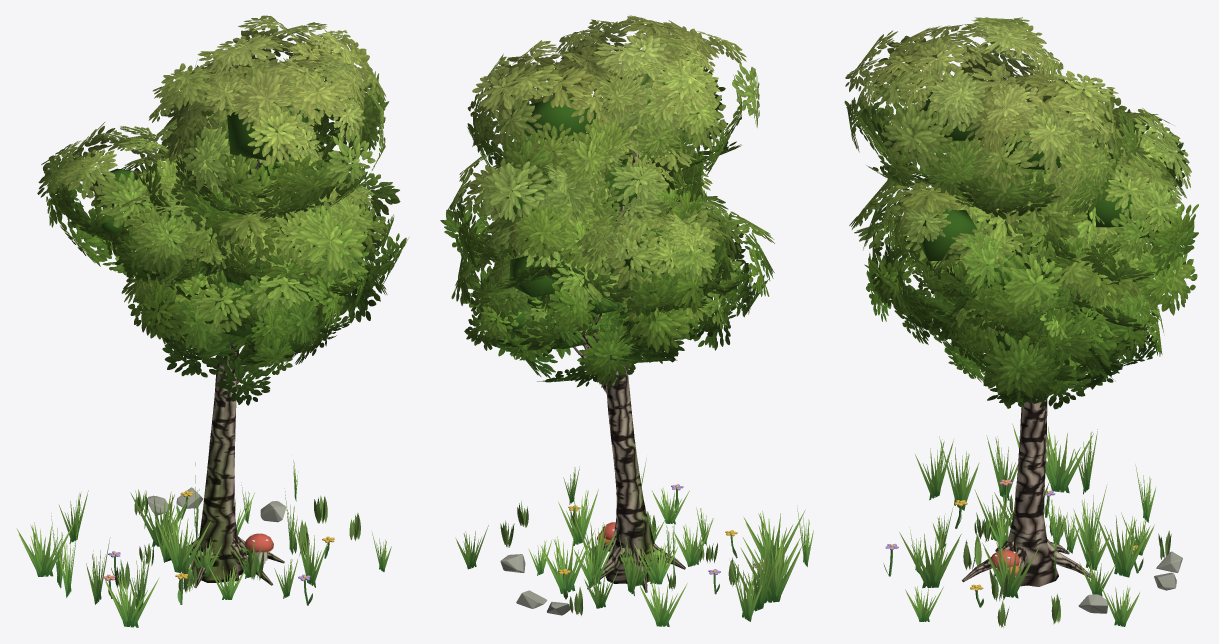
The model's file is tree_birch.gltf.
3 renders of one model, left to right at view 1: azimuth 30°, elevation 25°; view 2: azimuth 150°, elevation 25°; view 3: azimuth 270°, elevation 25°, orthographic. The views are drawn at different scales.
Parts seen in each view (by area): view 1: Canopy_summer, Undergrowth, Trunk, Base; view 2: Canopy_summer, Undergrowth, Trunk, Base; view 3: Canopy_summer, Undergrowth, Trunk, Base.
Part boxes in pixels (<box>): Canopy_summer: <box>37,15,408,405</box>; Undergrowth: <box>16,460,391,627</box>; Trunk: <box>166,159,284,588</box>; Base: <box>102,254,360,605</box>; Canopy_summer: <box>440,15,774,389</box>; Undergrowth: <box>455,457,813,626</box>; Trunk: <box>545,148,685,592</box>; Base: <box>500,404,765,615</box>; Canopy_summer: <box>844,17,1198,409</box>; Undergrowth: <box>899,423,1156,626</box>; Trunk: <box>962,144,1092,597</box>; Base: <box>883,400,1182,627</box>.
Bounding box in the file's own units: 3.87 × 6.12 × 3.6.
18 materials, 2 textured.
